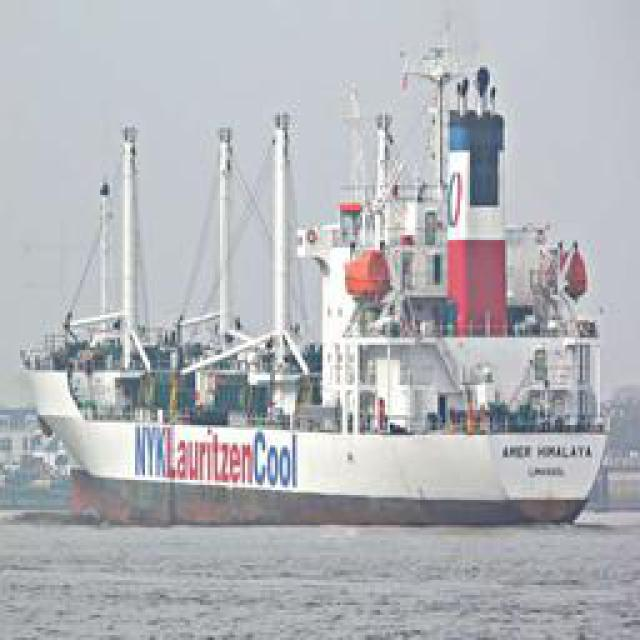Ship: (28, 57, 623, 510)
